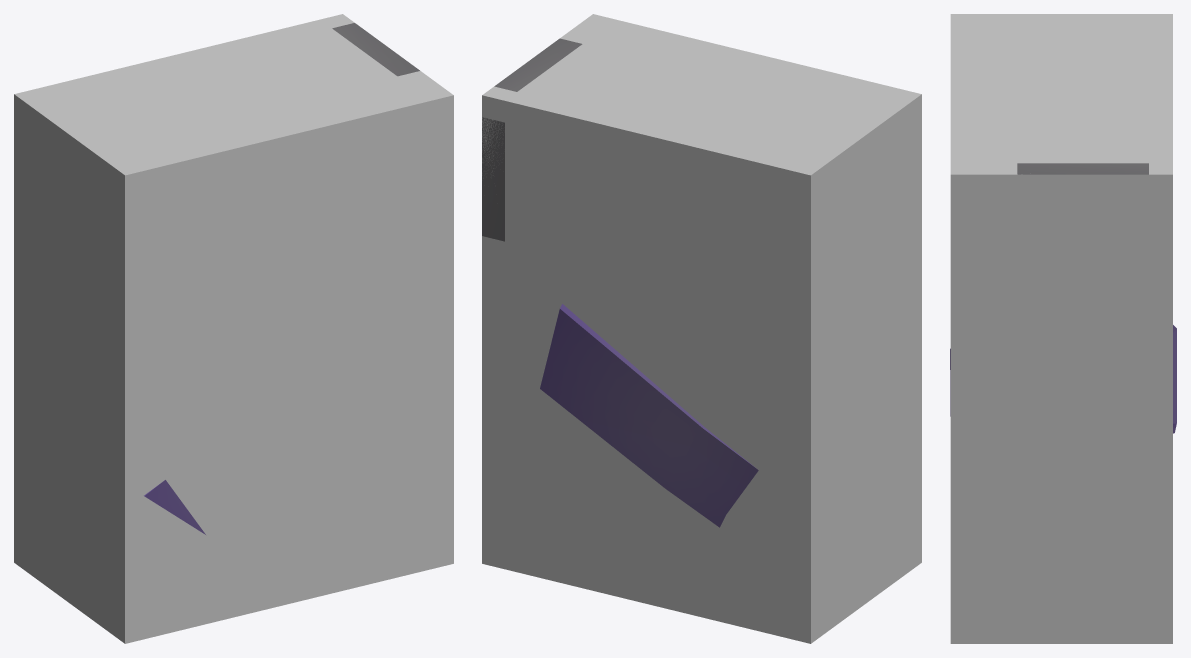
File: SM_Camera_02.fbx
3 views of the same model, side by side, from view 1: azimuth 30°, elevation 25°; view 2: azimuth 150°, elevation 25°; view 3: azimuth 270°, elevation 25° (orthographic).
Parts seen in each view (by area): view 1: SM_Camera_02_ConvexHulls, SM_Camera_02; view 2: SM_Camera_02_ConvexHulls, SM_Camera_02; view 3: SM_Camera_02_ConvexHulls, SM_Camera_02.
Boxes of the visible parts, <box> form: SM_Camera_02_ConvexHulls: <box>14,14,453,643</box>; SM_Camera_02: <box>144,23,419,534</box>; SM_Camera_02_ConvexHulls: <box>482,14,921,643</box>; SM_Camera_02: <box>482,38,758,527</box>; SM_Camera_02_ConvexHulls: <box>950,14,1172,643</box>; SM_Camera_02: <box>950,163,1176,433</box>.
Bounding box in the file's own units: 119 × 71.27 × 163.
2 materials, 1 textured.
